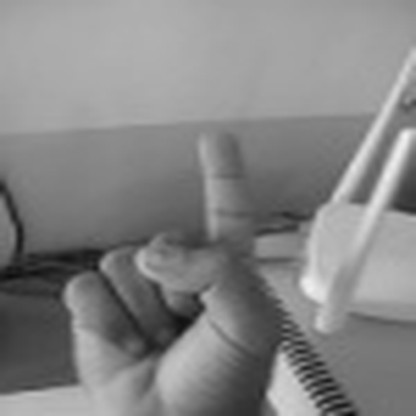d: (64, 112, 286, 416)
